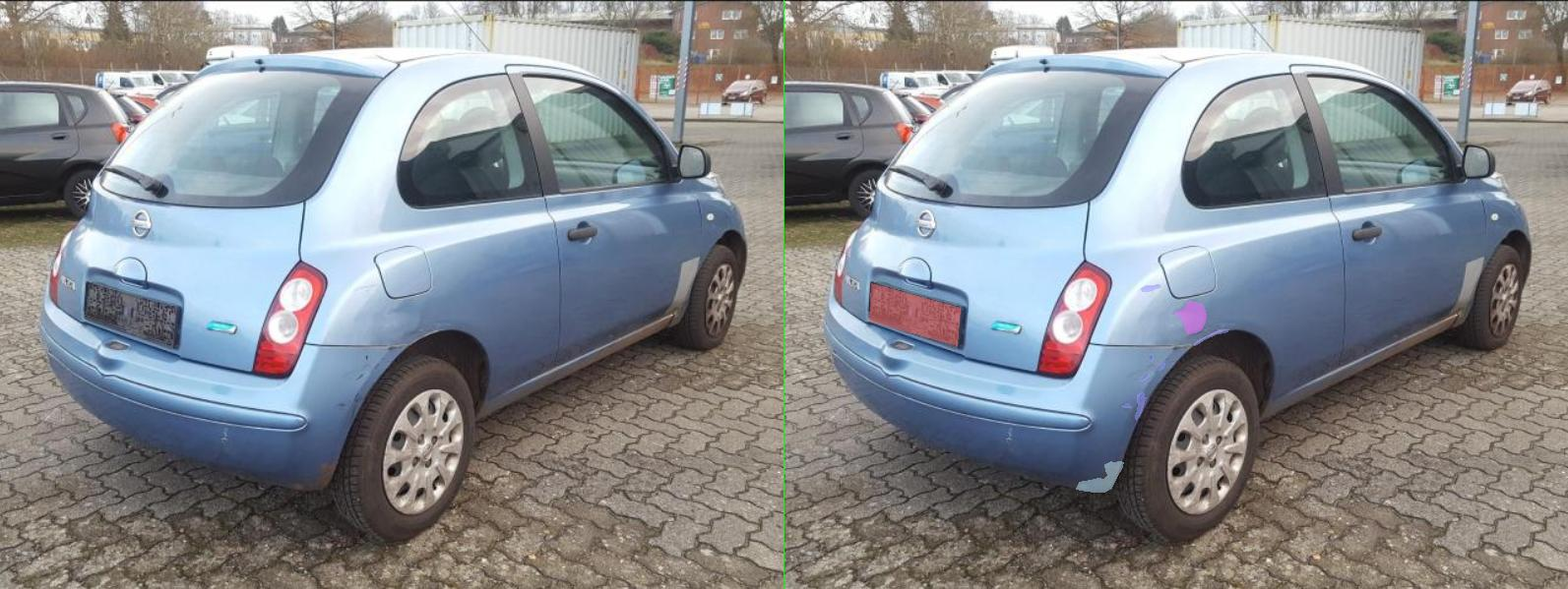Corrosion: (583, 461, 678, 492)
Dent: (780, 301, 843, 334)
Missing part: (169, 283, 351, 345)
Scratch: (819, 329, 888, 345), (701, 391, 725, 420), (713, 284, 752, 291), (711, 373, 731, 381), (749, 363, 760, 370), (674, 403, 693, 407), (733, 355, 737, 361)
